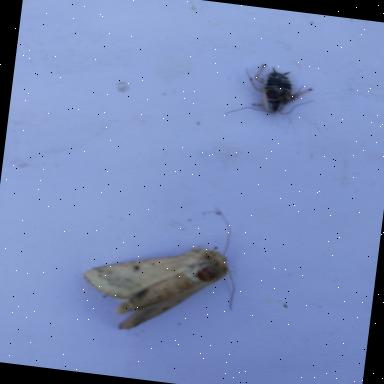abw: (72, 186, 254, 345)
